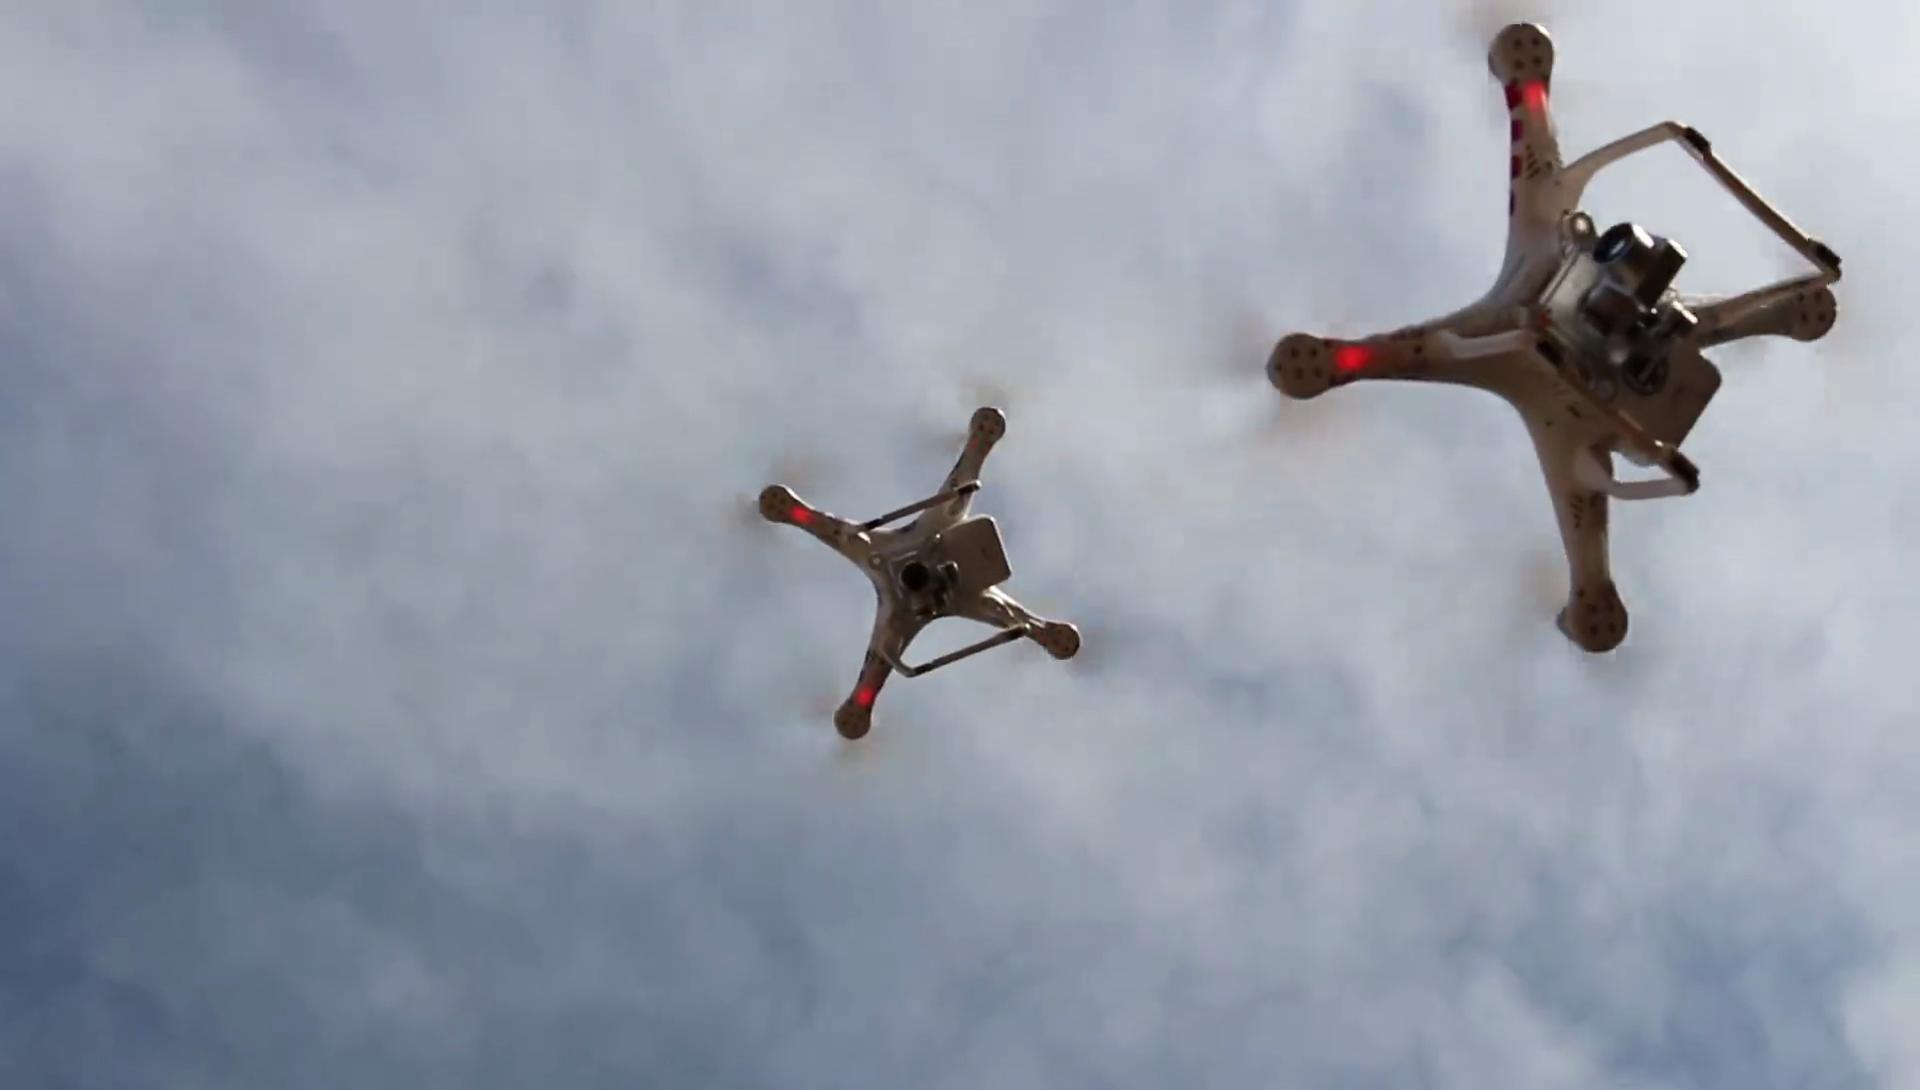drone: (1265, 14, 1844, 652), (752, 397, 1091, 746)
